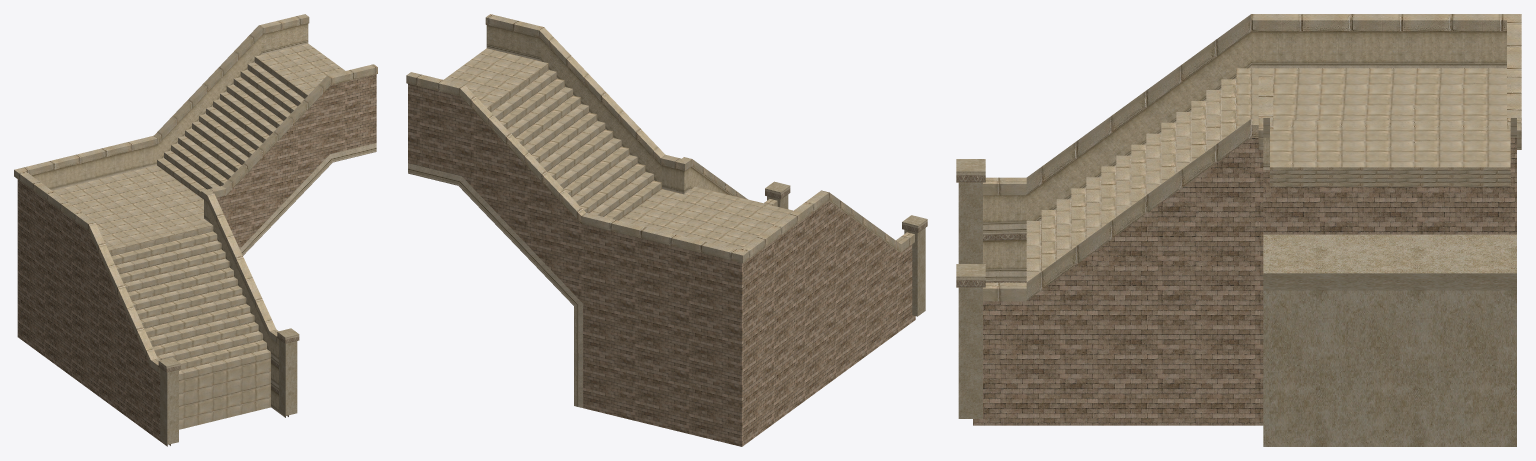
File: thm_nboo_imprv_bridge_stairs_s02_l0.fbx
3 views of the same model, side by side, from view 1: azimuth 30°, elevation 25°; view 2: azimuth 150°, elevation 25°; view 3: azimuth 270°, elevation 25° (orthographic). The views are drawn at different scales.
Parts seen in each view (by area): view 1: mesh_node; view 2: mesh_node; view 3: mesh_node.
Boxes of the visible parts, <box> form: mesh_node: <box>14,14,377,446</box>; mesh_node: <box>406,14,927,446</box>; mesh_node: <box>956,14,1521,446</box>.
Bounding box in the file's own units: 12.64 × 10.32 × 11.6.
4 materials, 4 textured.
